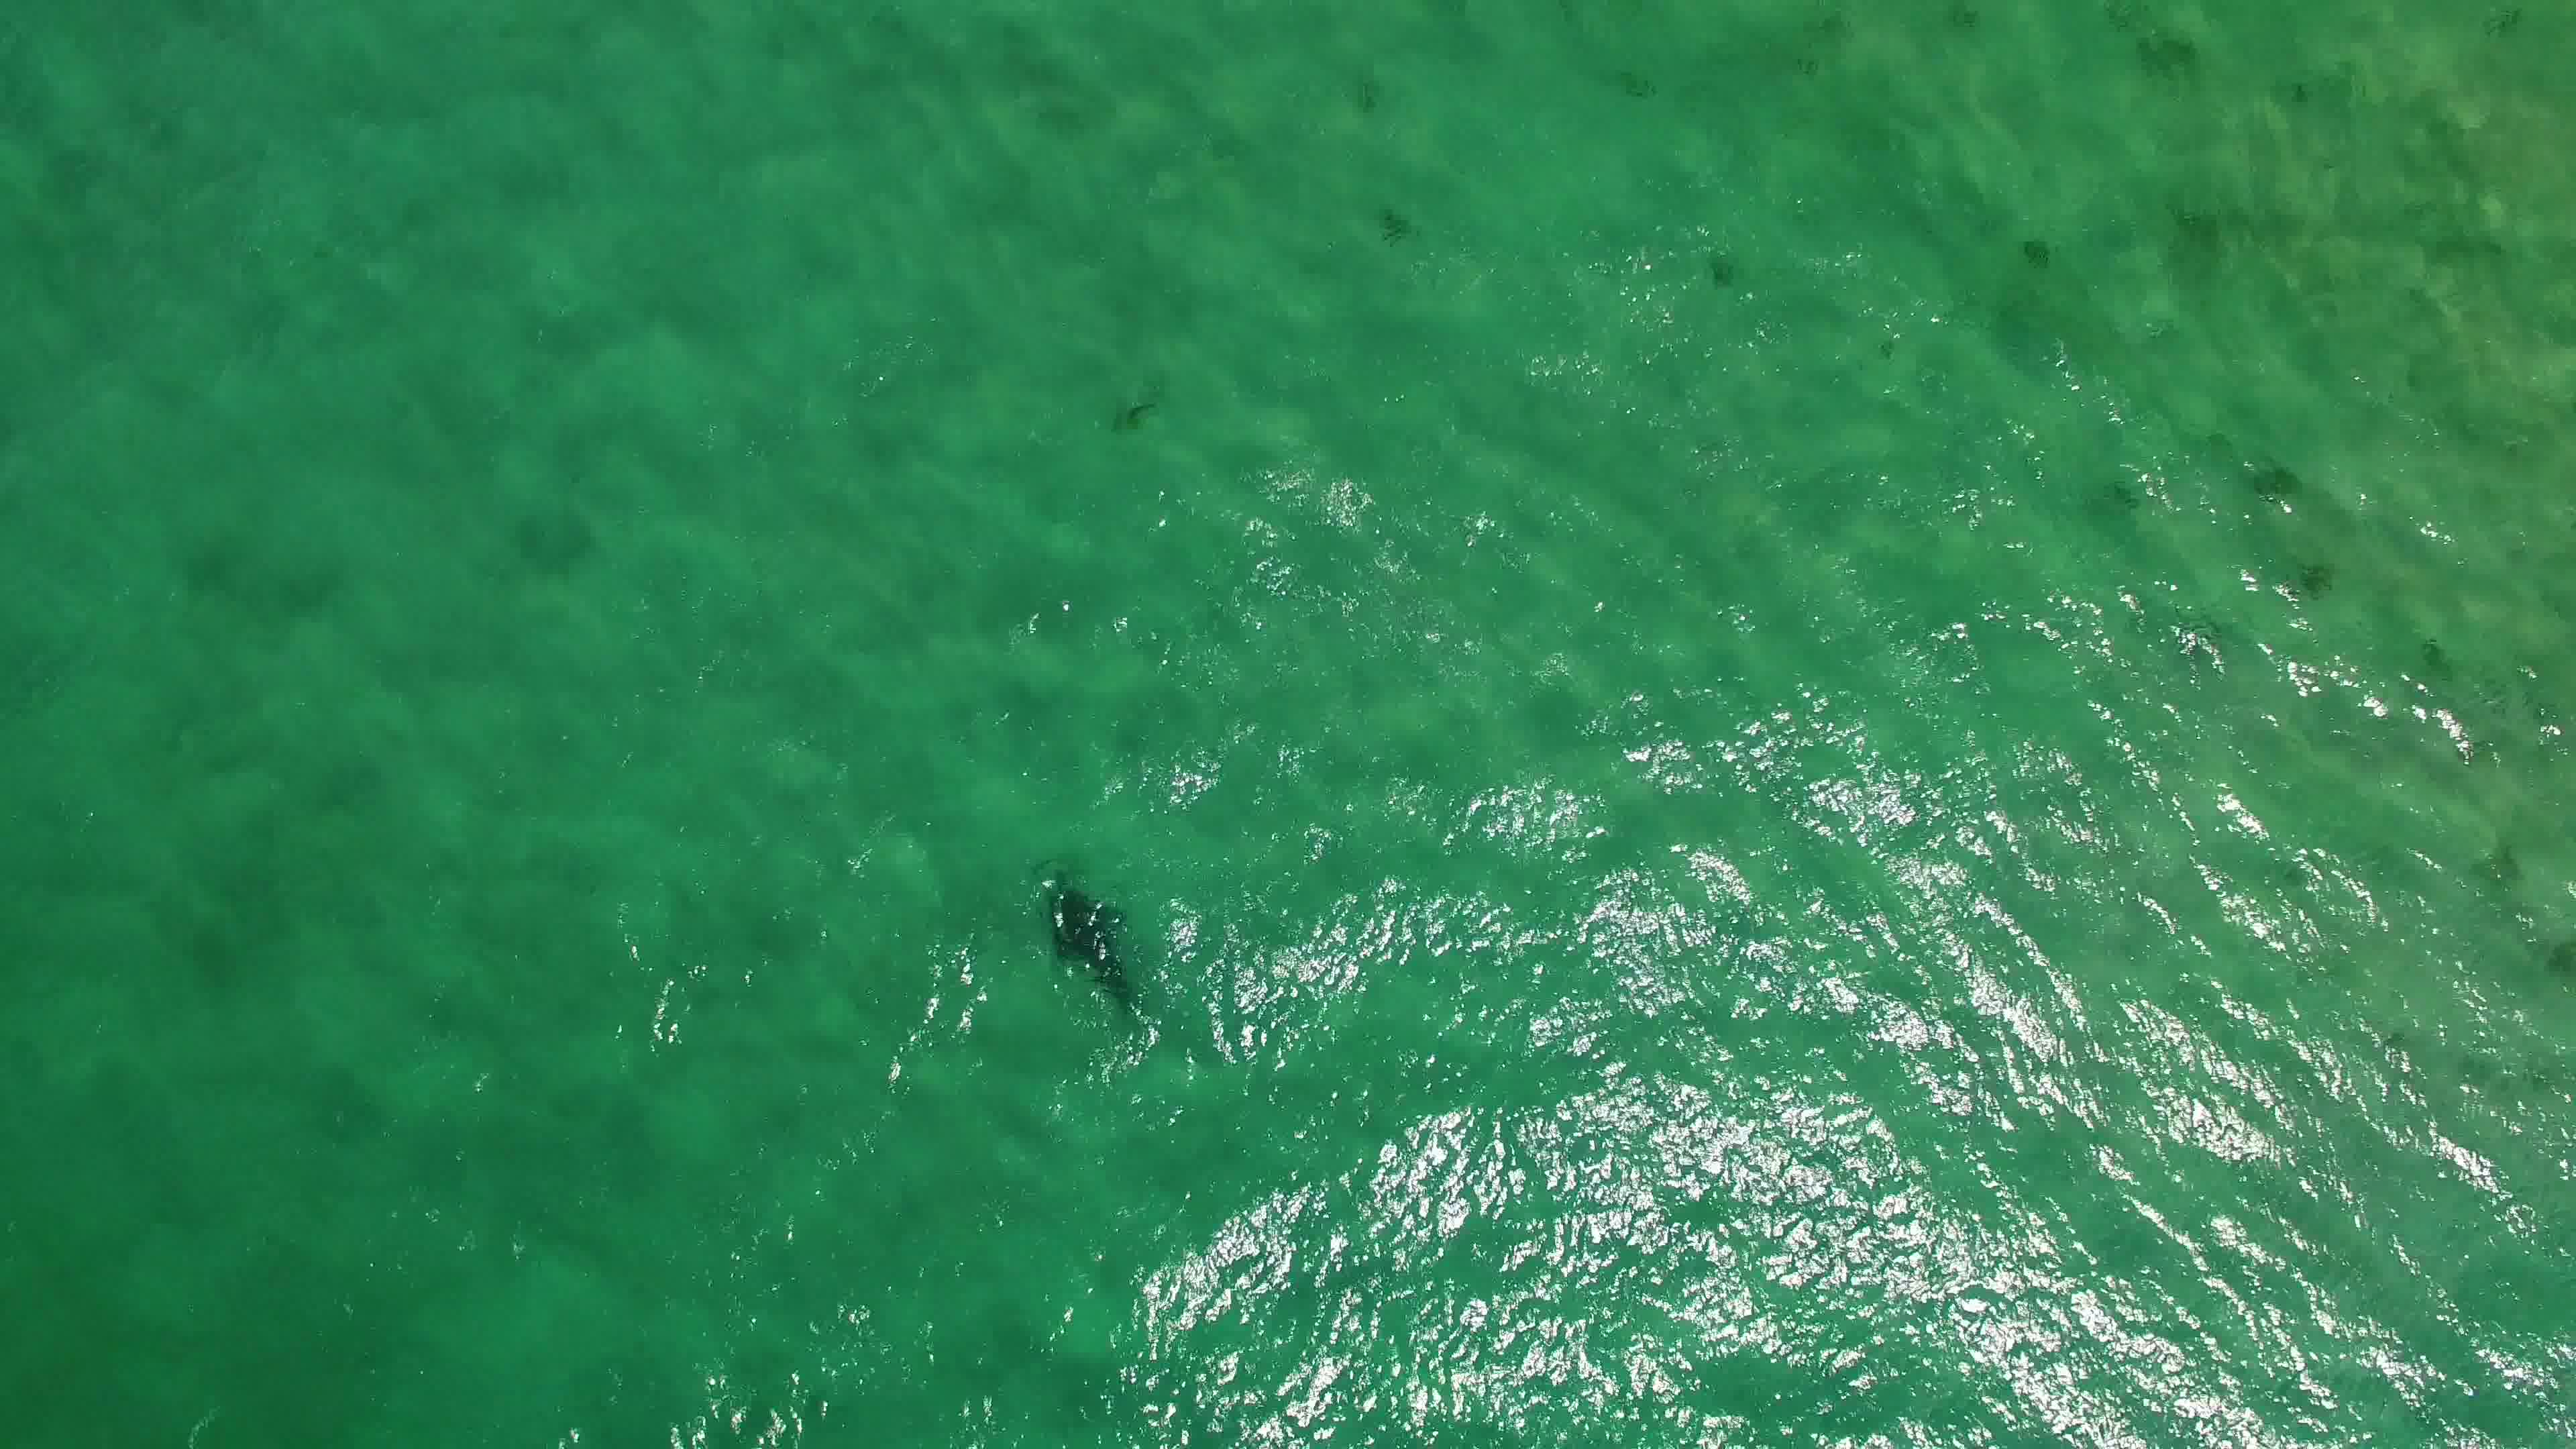shark: (1031, 869, 1157, 1030)
